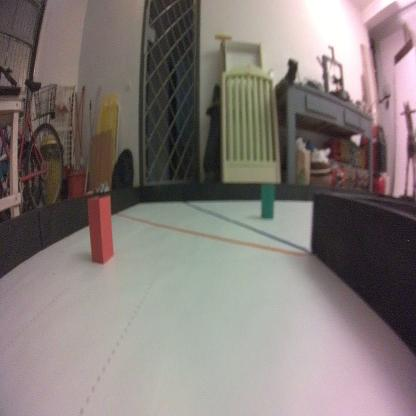green: (260, 182, 275, 220)
red: (86, 196, 116, 264)
